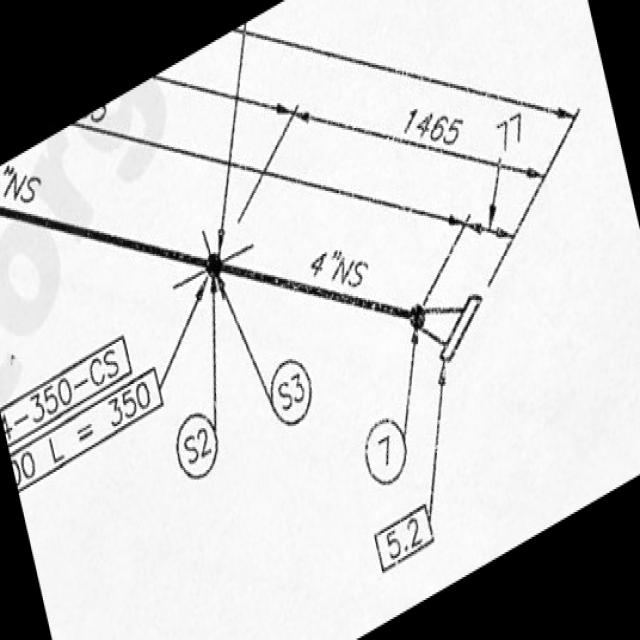Item number: (371, 496, 439, 581)
Measrement: (88, 118, 500, 248), (232, 2, 547, 146), (9, 361, 167, 503), (1, 158, 46, 208)
Pipeline: (1, 201, 211, 276)
Symbol: (411, 280, 490, 378)
Weld number: (362, 412, 411, 492), (267, 354, 316, 430), (175, 408, 221, 484)
